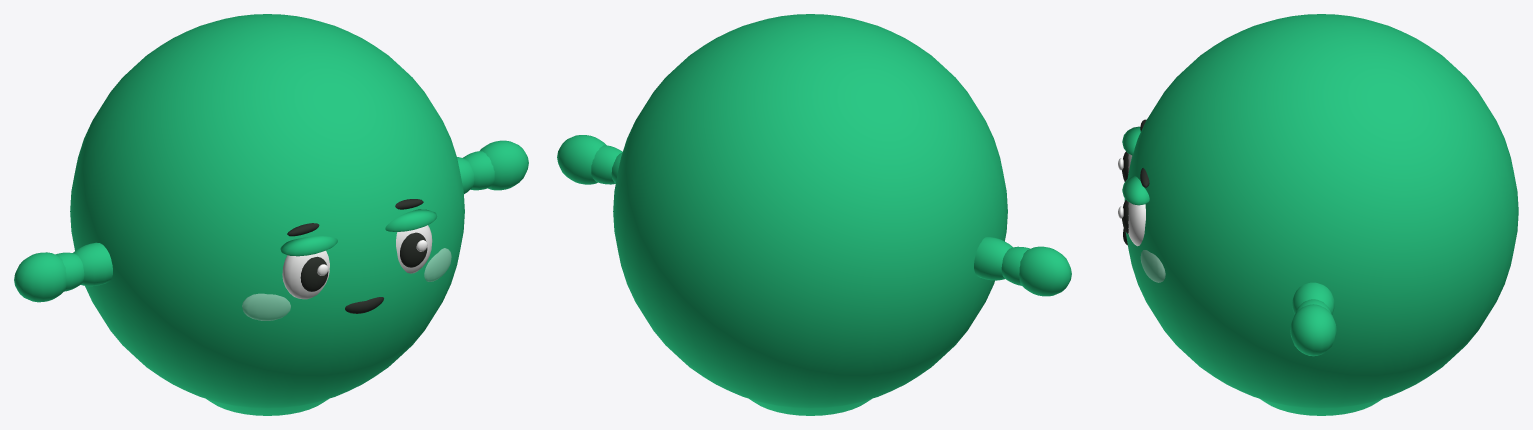
The model's file is mascot.glb.
The picture shows the model from 3 angles, left to right: view 1: azimuth 30°, elevation 25°; view 2: azimuth 150°, elevation 25°; view 3: azimuth 270°, elevation 25°; orthographic projection.
Visible parts, largest first — view 1: Body, Hand_R, Hand_L, Upper_R, Eye_R, Cheek_R, Eyelid_R, Fore_L, Eyelid_L, Pupil_R, Pupil_L, Fore_R (+2 smaller); view 2: Body, Hand_R, Hand_L, Upper_R, Fore_L, Fore_R; view 3: Body, Hand_L, Upper_L, Eye_L, Eyelid_L, Cheek_L.
Part boxes in pixels (box(x1,y1,x2,y2)): Body: box(70, 14, 464, 415); Hand_R: box(14, 252, 66, 302); Hand_L: box(480, 140, 528, 190); Upper_R: box(73, 242, 112, 286); Eye_R: box(282, 250, 329, 299); Cheek_R: box(242, 293, 290, 320); Eyelid_R: box(280, 236, 337, 256); Fore_L: box(463, 151, 494, 190); Eyelid_L: box(385, 209, 437, 231); Pupil_R: box(300, 256, 328, 291); Pupil_L: box(400, 232, 427, 267); Fore_R: box(55, 252, 84, 291); Body: box(613, 14, 1007, 415); Hand_R: box(1019, 246, 1071, 296); Hand_L: box(557, 135, 606, 184); Upper_R: box(974, 237, 1012, 280); Fore_L: box(591, 145, 622, 184); Fore_R: box(1001, 246, 1030, 285); Body: box(1124, 14, 1518, 415); Hand_L: box(1290, 304, 1336, 356); Upper_L: box(1292, 282, 1334, 314); Eye_L: box(1128, 202, 1145, 246); Eyelid_L: box(1122, 175, 1149, 205); Cheek_L: box(1140, 250, 1165, 282).
Size of the model in its own units: 1.49 by 1 by 1.06.
